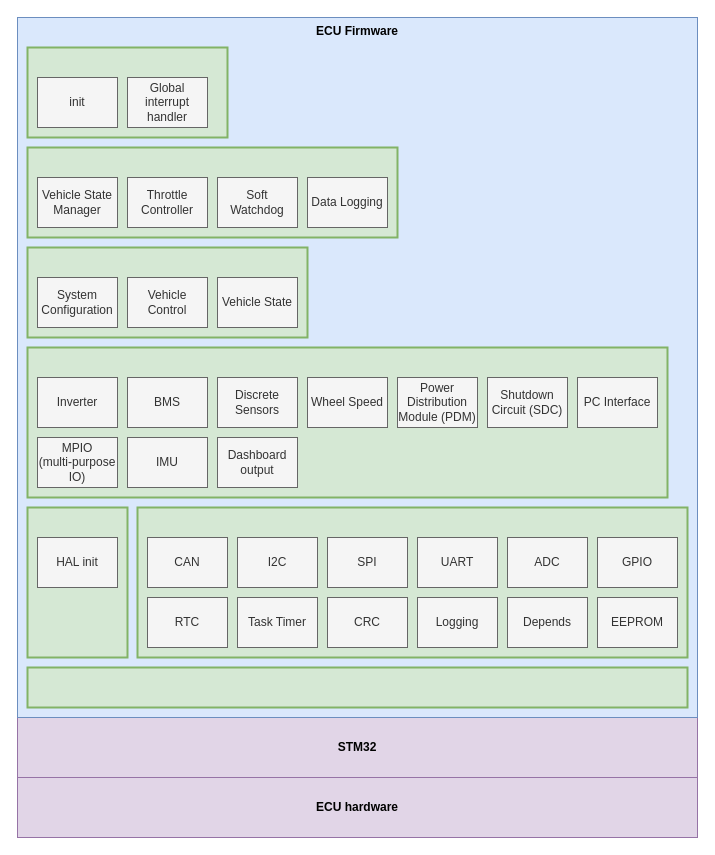
Some shapes in this 715 by 855 pixel diagram are drawn without their labels. Here are the shapes that lost their labels. From the top down, the box of each, then its label:
(26, 46, 228, 138): System init
(26, 146, 398, 238): Vehicle Logic
(26, 246, 308, 338): Vehicle Interface
(26, 346, 668, 498): Device Driver Layer
(26, 506, 128, 658): cube HAL init
(136, 506, 688, 658): Peripheral Driver/Lib Layer
(26, 666, 688, 708): STM32 HAL
